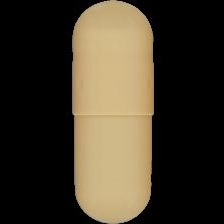69189-2241: (0, 0, 224, 224)
